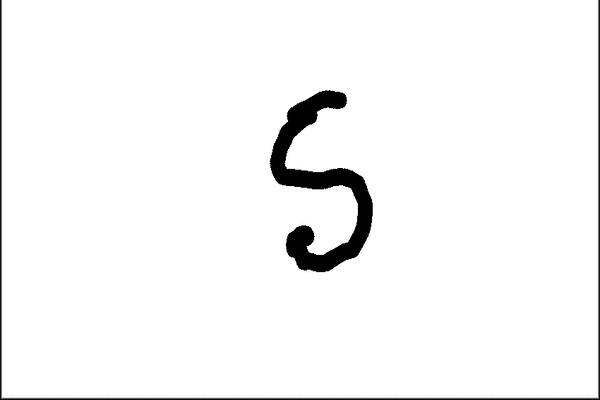S: (262, 78, 376, 271)
